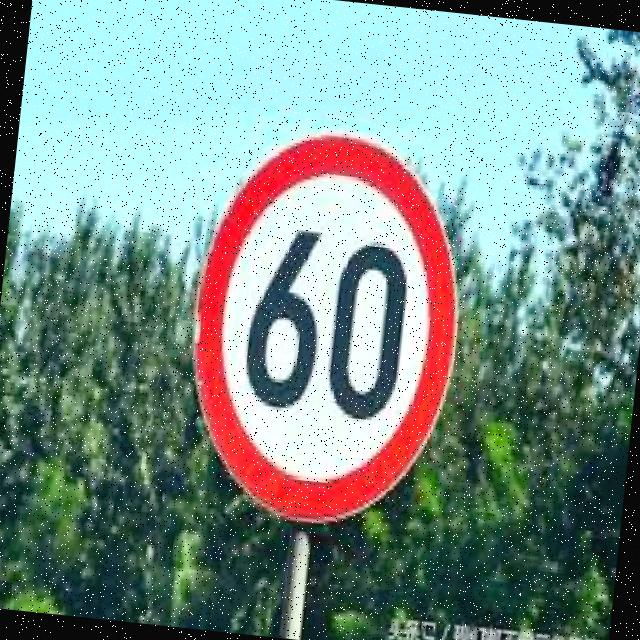Ograniczenie predkosci do 60: (176, 131, 474, 535)
